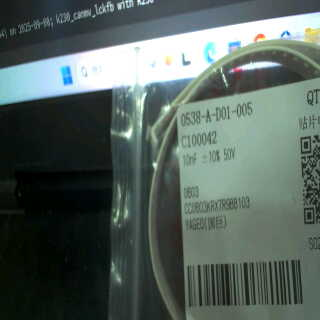10nF: (181, 150, 200, 170)
